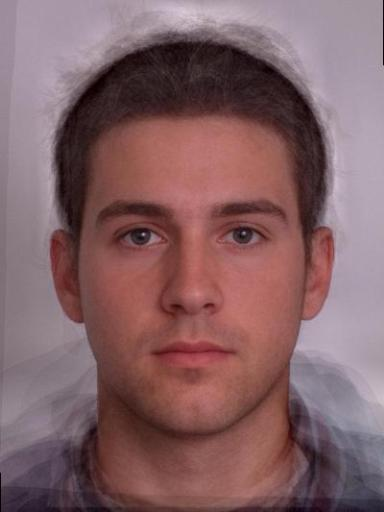left_eye: (216, 223, 272, 250)
left_lip_corner: (225, 345, 242, 361)
right_eye: (112, 225, 169, 251)
right_lip_corner: (146, 345, 163, 364)
